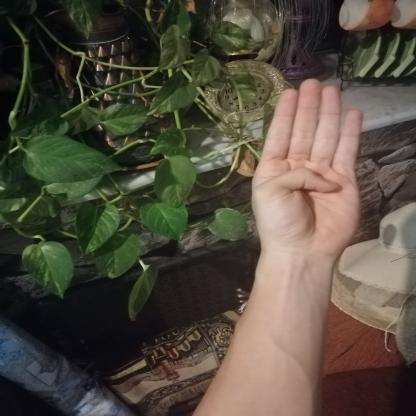KAAF: (233, 64, 382, 269)
